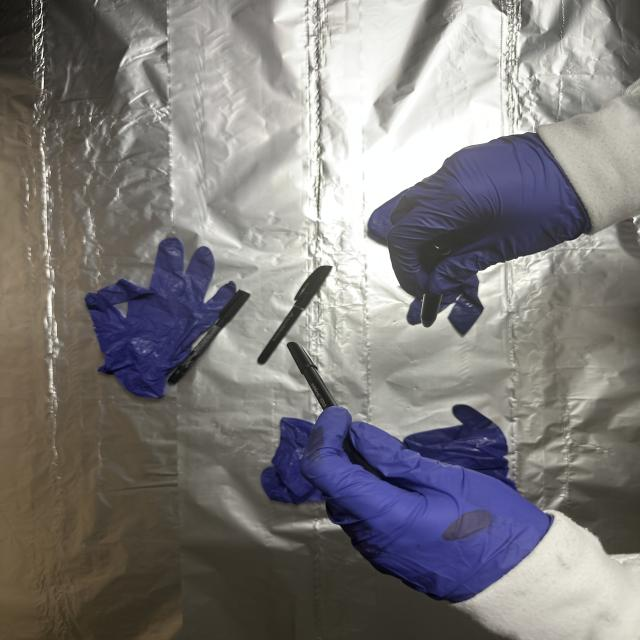gloves_contaminated: (303, 408, 552, 602), (387, 133, 591, 300)
